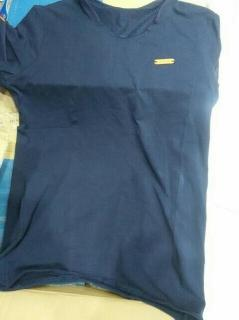short sleeve top: (0, 0, 223, 319)
